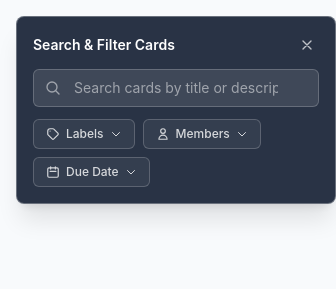
CardSearchFilter › labels filter › opens labels dropdown when labels button is clicked
This screenshot has width=336, height=289.
Click the button "Labels".
click(84, 134)  # box [33, 119, 135, 149]
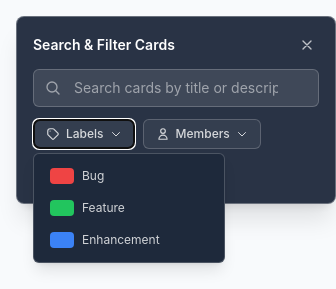
Result: the text "Bug" is shown at [82, 168, 104, 183]
Result: the text "Feature" is shown at [82, 200, 125, 215]
Result: the text "Enhancement" is shown at [82, 232, 160, 247]
